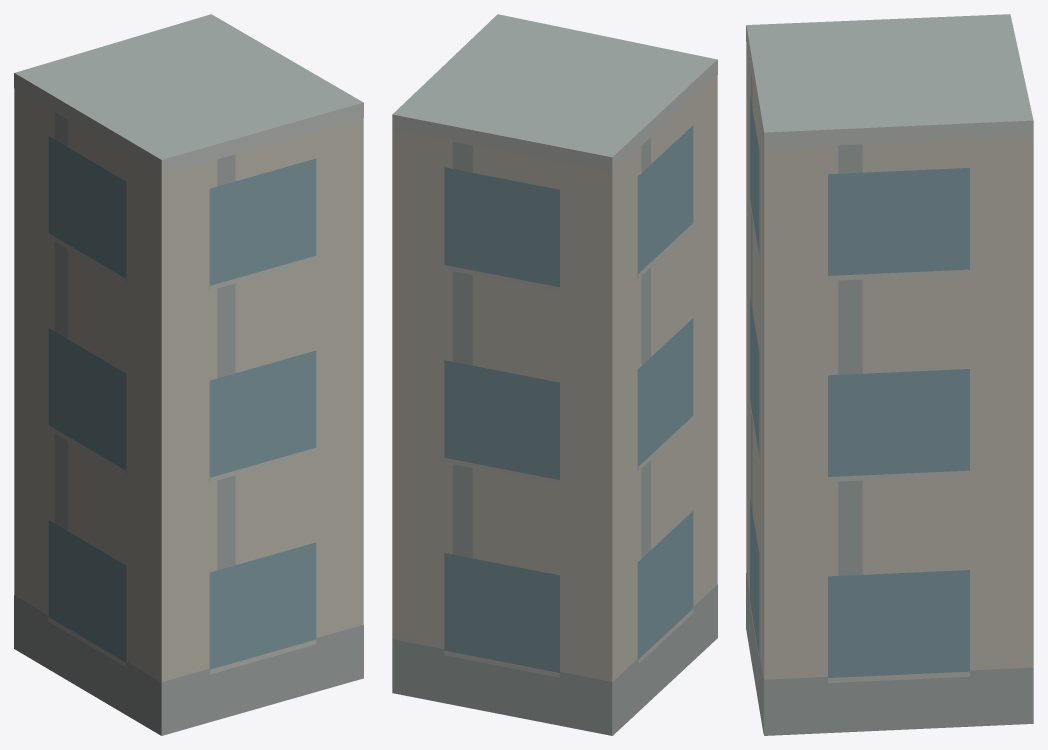
Rendered from survey-upis-32461672.glb.
3 renders of one model, left to right at view 1: azimuth 30°, elevation 25°; view 2: azimuth 150°, elevation 25°; view 3: azimuth 270°, elevation 25°, orthographic. The views are drawn at different scales.
Parts seen in each view (by area): view 1: survey-upis-32461672.tmp; view 2: survey-upis-32461672.tmp; view 3: survey-upis-32461672.tmp.
Boxes of the visible parts, bbox=[...] form: survey-upis-32461672.tmp: bbox=[14, 14, 363, 735]; survey-upis-32461672.tmp: bbox=[392, 14, 717, 735]; survey-upis-32461672.tmp: bbox=[746, 14, 1033, 735].
Size of the model in its own units: 3.86 by 9.15 by 3.96.
